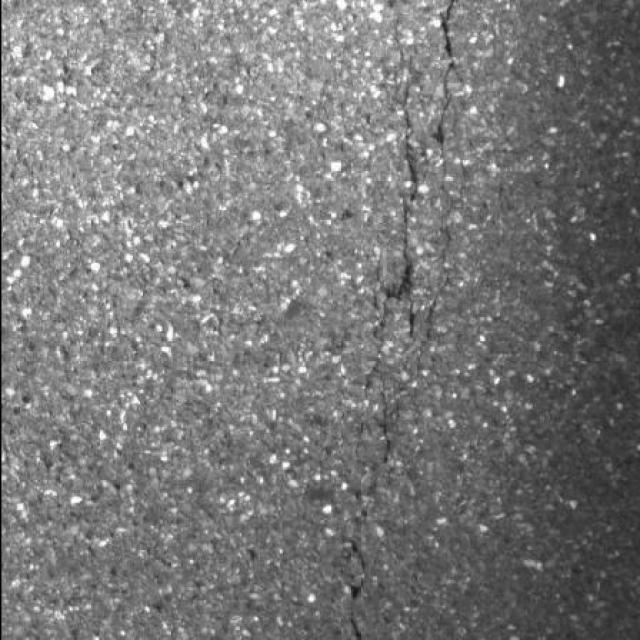Crack: (353, 0, 452, 464)
